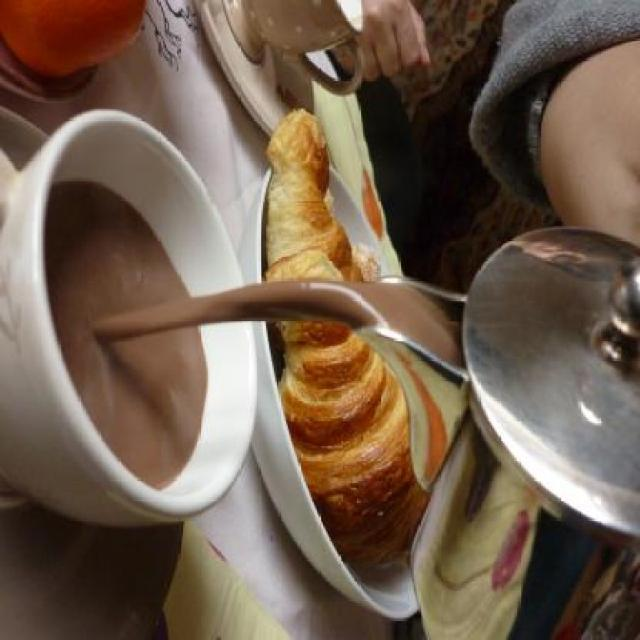Croissant: (275, 307, 433, 578), (268, 109, 362, 280)
